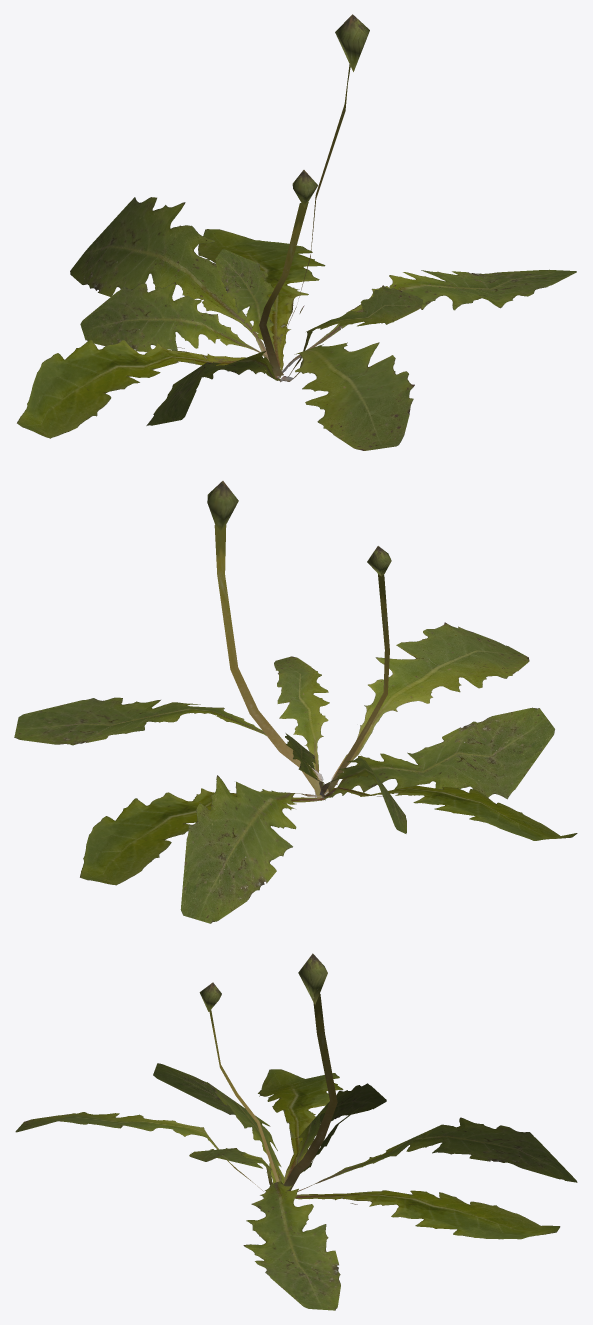
The model's file is dandelion_01_c.gltf.
3 views of the same model, one above another, from view 1: azimuth 30°, elevation 25°; view 2: azimuth 150°, elevation 25°; view 3: azimuth 270°, elevation 25° (orthographic). The views are drawn at different scales.
Parts seen in each view (by area): view 1: dandelion_01_c__x; view 2: dandelion_01_c__x; view 3: dandelion_01_c__x.
Part boxes in pixels (left/top/right/bottom): dandelion_01_c__x: left=17, top=14, right=576, bottom=450; dandelion_01_c__x: left=14, top=481, right=577, bottom=923; dandelion_01_c__x: left=15, top=953, right=577, bottom=1310.
Bounding box in the file's own units: 0.1662 × 0.0918 × 0.1653.
1 material, 1 textured.
